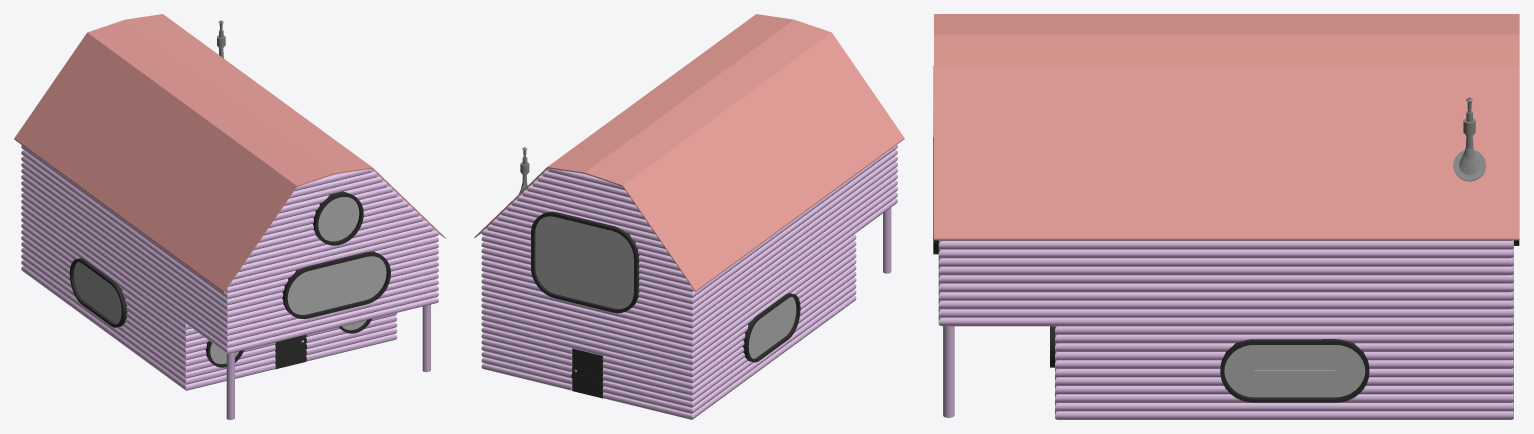
Rendered from Mo_ForestVillageHouse02.fbx.
3 views of the same model, side by side, from view 1: azimuth 30°, elevation 25°; view 2: azimuth 150°, elevation 25°; view 3: azimuth 270°, elevation 25° (orthographic). The views are drawn at different scales.
Parts seen in each view (by area): view 1: Cube; view 2: Cube; view 3: Cube.
Part boxes in pixels (box(x1,y1,x2,y2)): Cube: box(14, 14, 445, 419); Cube: box(474, 14, 904, 419); Cube: box(933, 14, 1519, 419).
Bounding box in the file's own units: 1902 × 1845 × 3119.
